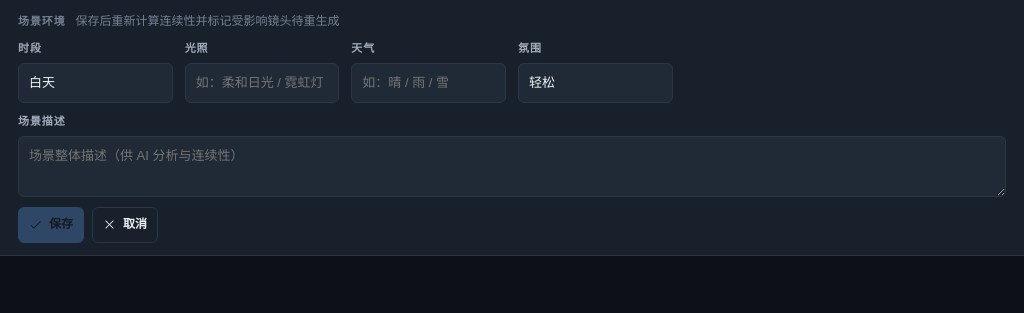
ScenePropertiesEditor › 409 冲突 → 显示冲突提示并保留编辑区（不静默）
Replace the text in the field labelled "时段" with "夜晚" at (95, 83), box top-left (18, 63), bottom-right (173, 103)
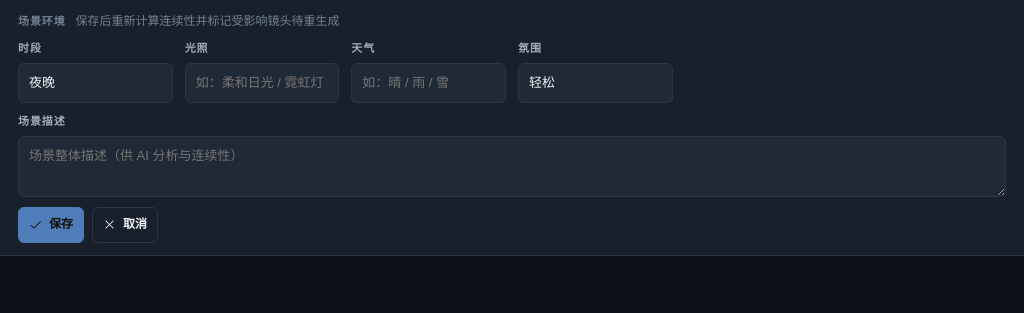
Click the button "保存" at (51, 225), box top-left (18, 207), bottom-right (84, 243)
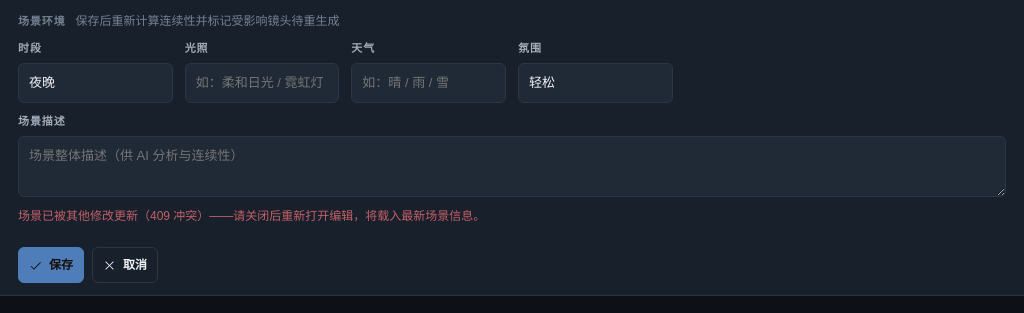
Check: the text "场景已被其他修改更新（409 冲突）——请关闭后重新打开编辑，将载入最新场景信息。" is shown, box top-left (18, 209), bottom-right (485, 223)
